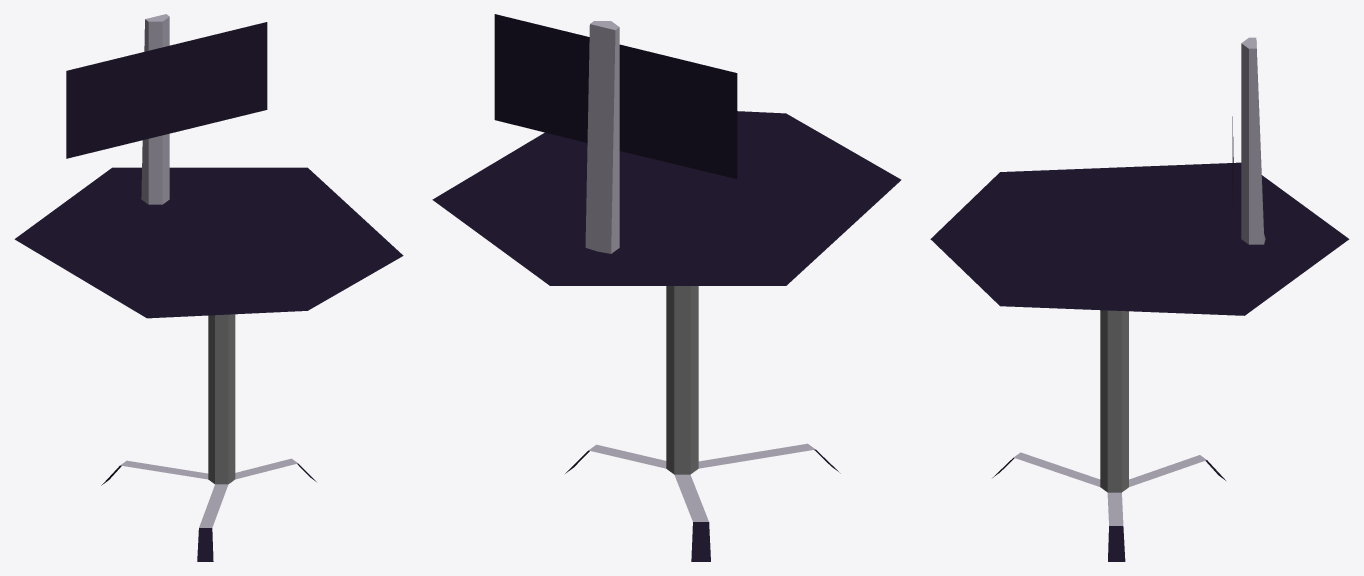
The model's file is chair.dae.
3 renders of one model, left to right at view 1: azimuth 30°, elevation 25°; view 2: azimuth 150°, elevation 25°; view 3: azimuth 270°, elevation 25°, orthographic. The views are drawn at different scales.
Parts seen in each view (by area): view 1: chair; view 2: chair; view 3: chair.
Boxes of the visible parts, <box> form: chair: <box>14,14,403,561</box>; chair: <box>432,14,901,561</box>; chair: <box>930,37,1349,561</box>.
Bounding box in the file's own units: 1.18 × 1.36 × 1.69.
Materials: 1 (1 with a texture image).
